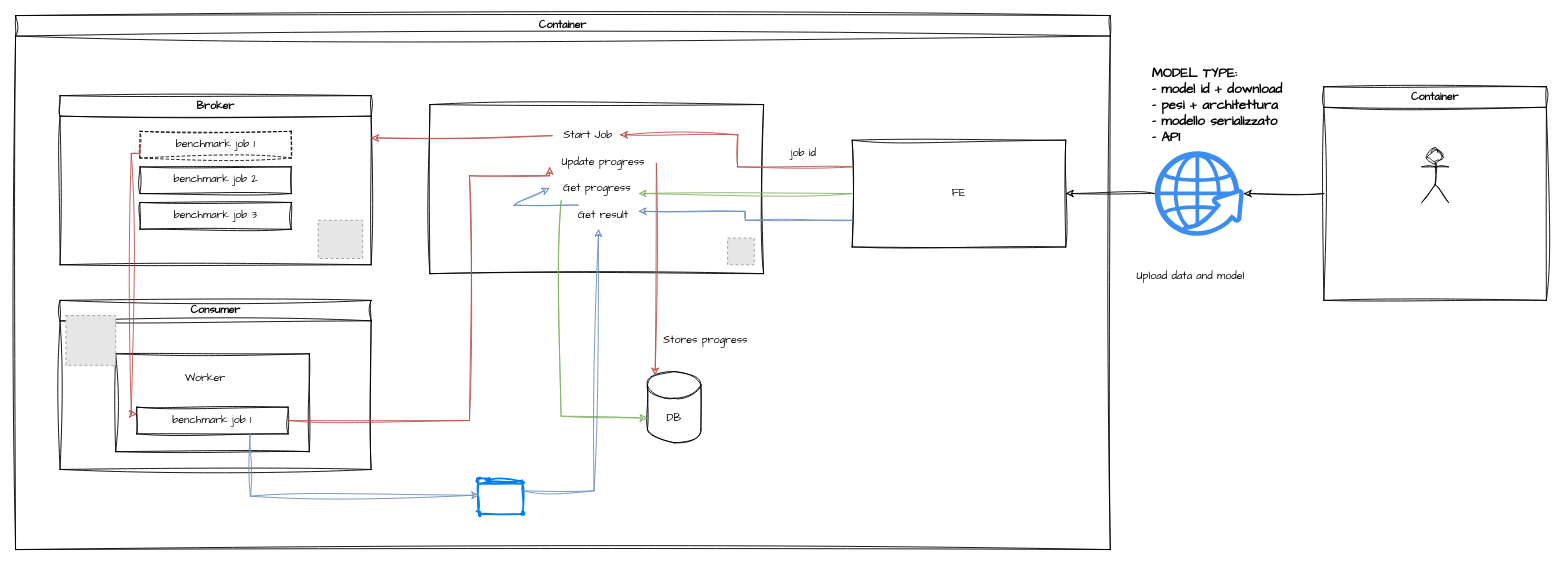
Image size: 1562x565. Some labels were removed from this diagram. Grey dashed boxes stand in for pictures. Here are the shapes that lost their labels. From the top down, the centre of each, then its label:
At pixel 1434 175: "Actor".
At pixel 500 495: "output - id".
